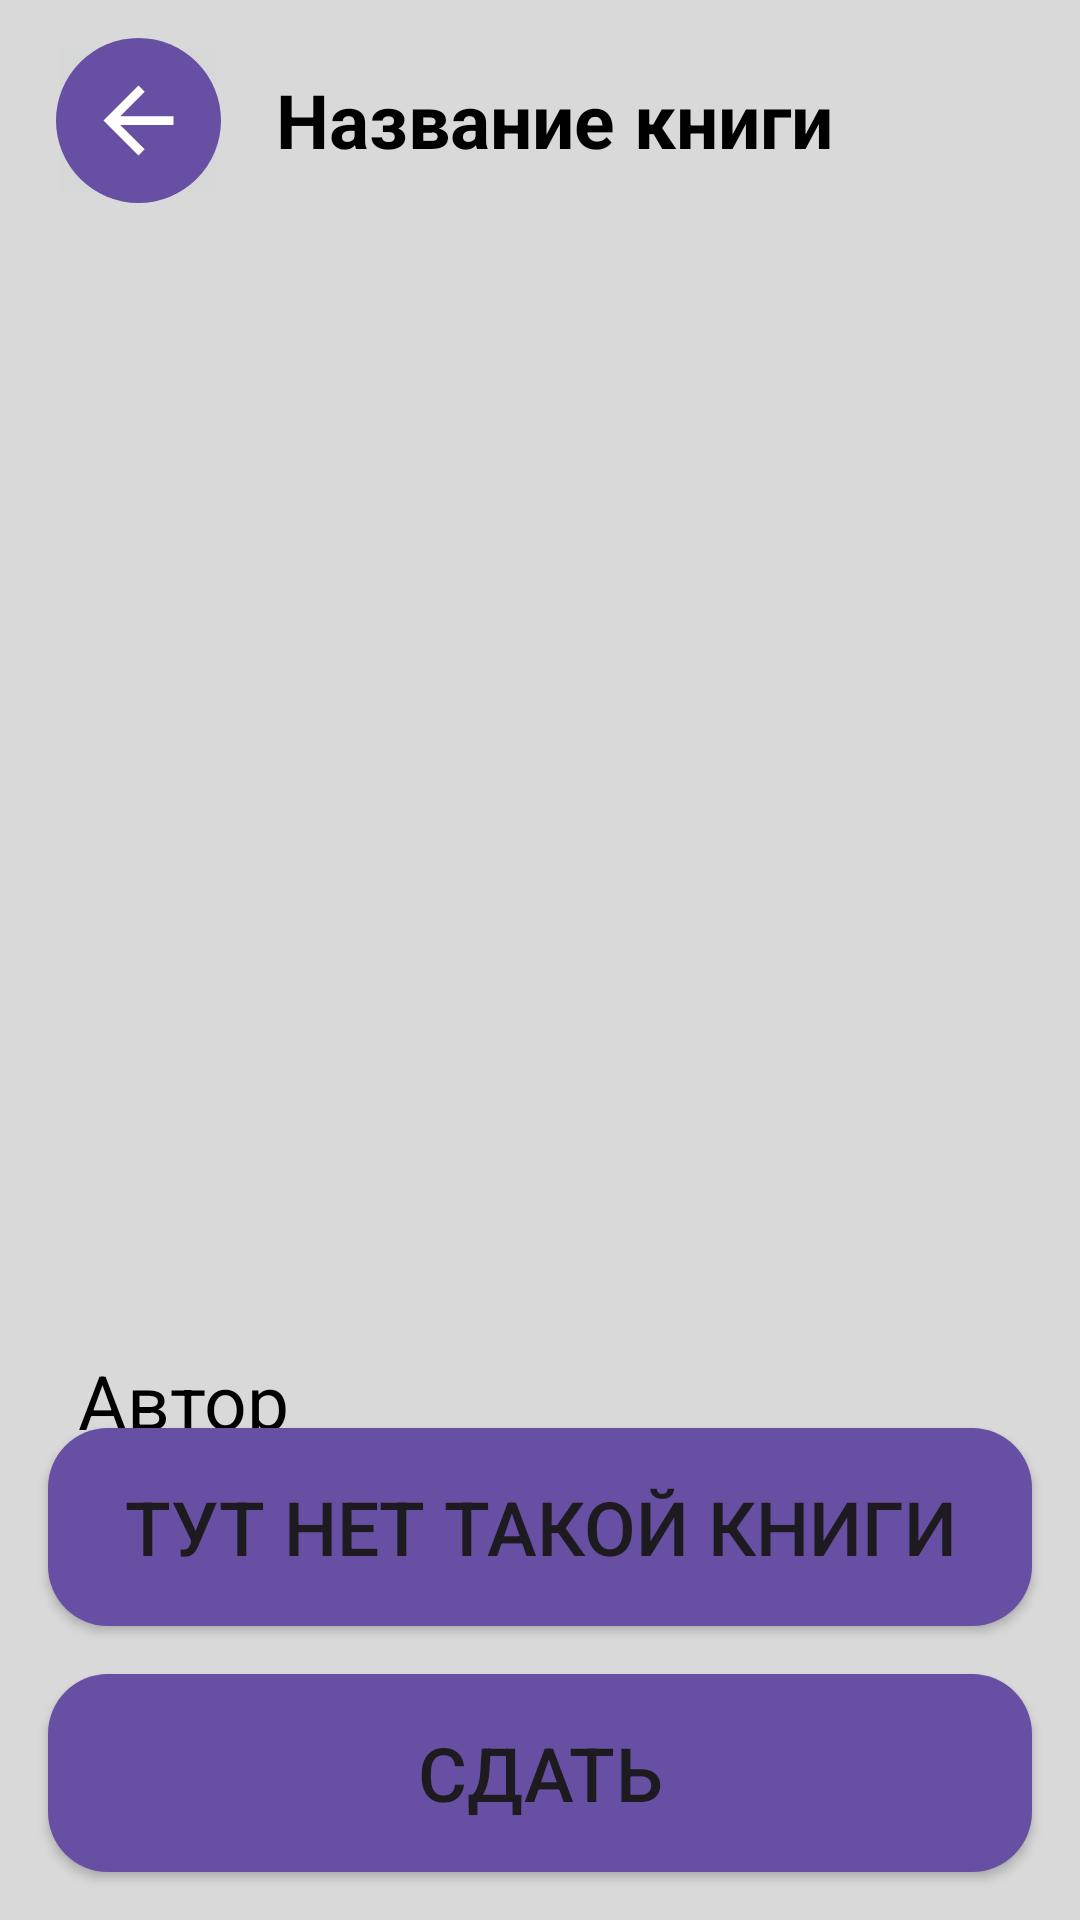

Icon click points for this 1080px×1920px phone screenshot, format [x,y]:
back: [138,120]
